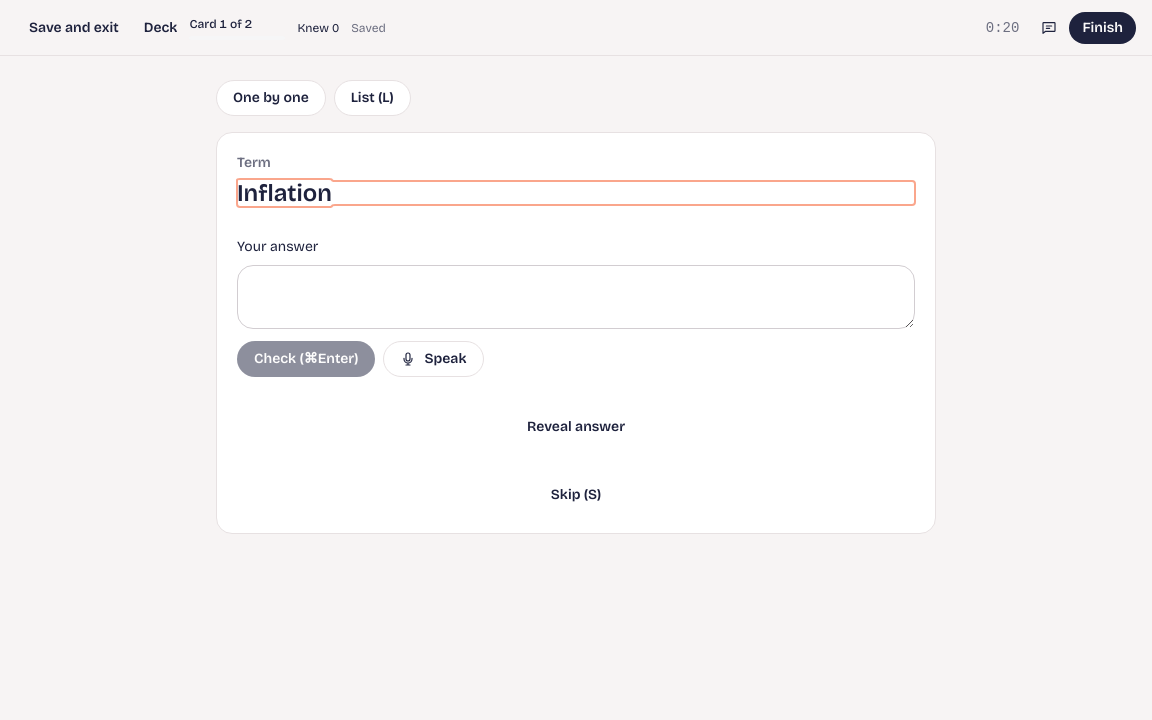
Scenario: offers self rating on check failure 500
Type "answer" into the text box at (576, 297), box [237, 265, 915, 329]
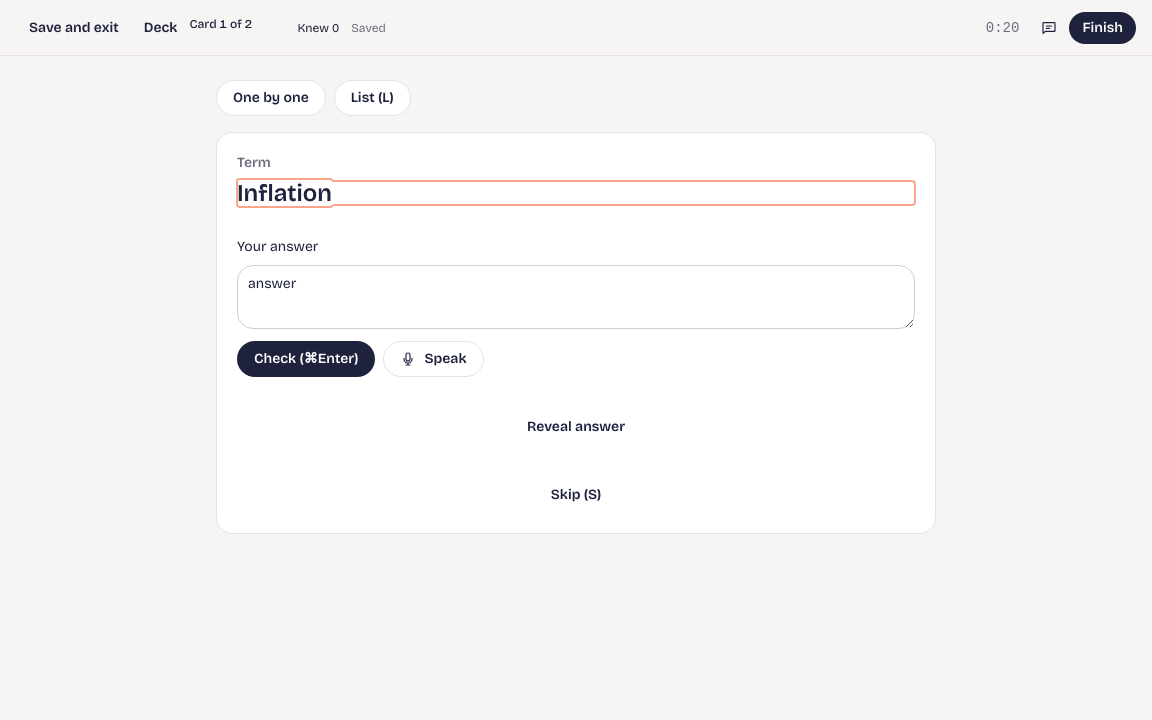
Click the button "Check (⌘Enter)" at (306, 359), box [237, 341, 375, 377]
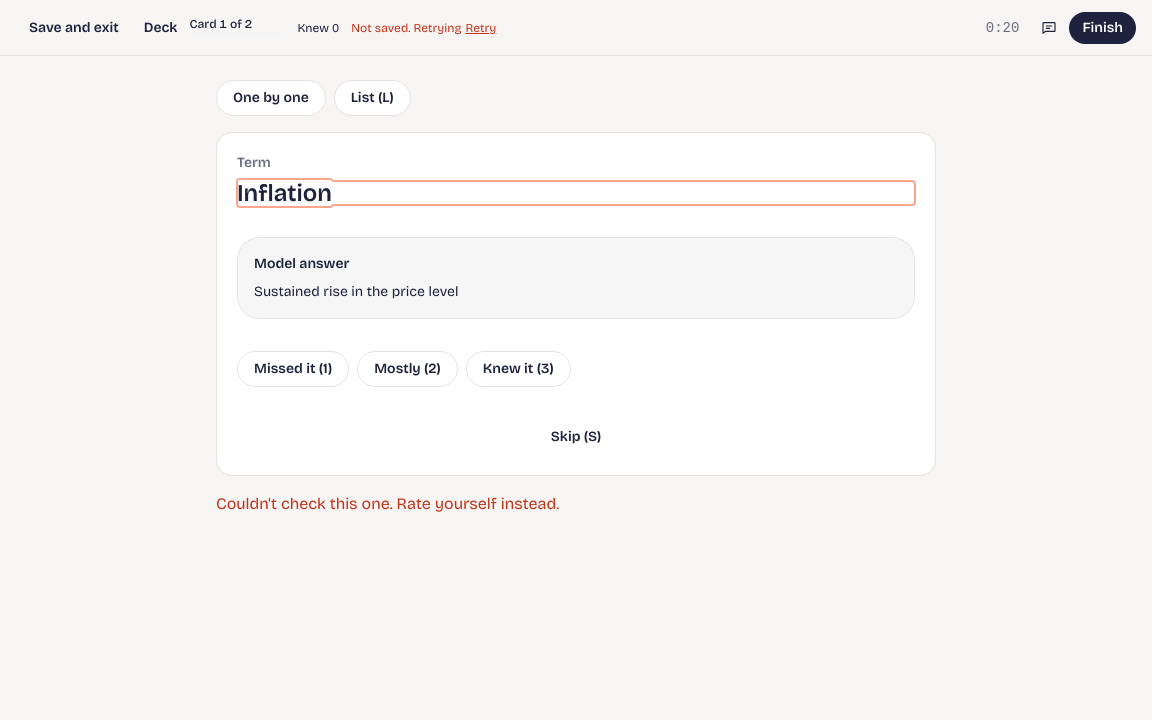
Expected: the button "Knew it (3)" is enabled, [466, 351, 571, 387]
Result: the message "Couldn't check this one. Rate yourself instead." is shown at [216, 494, 559, 513]
